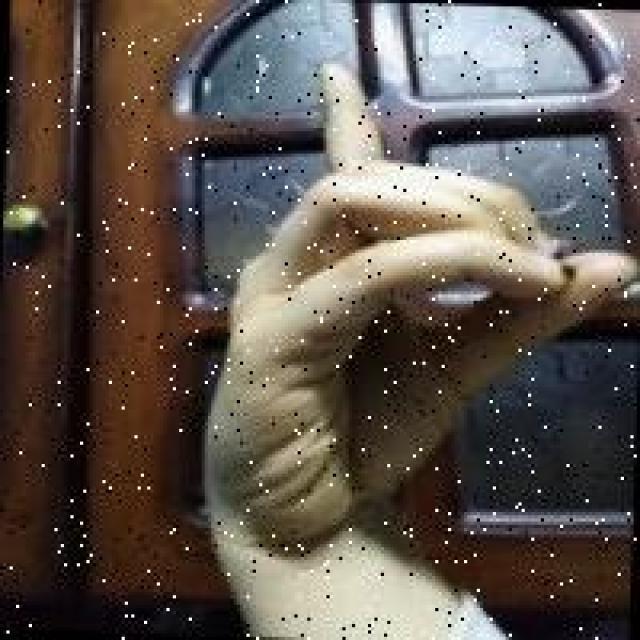D: (195, 51, 640, 582)
